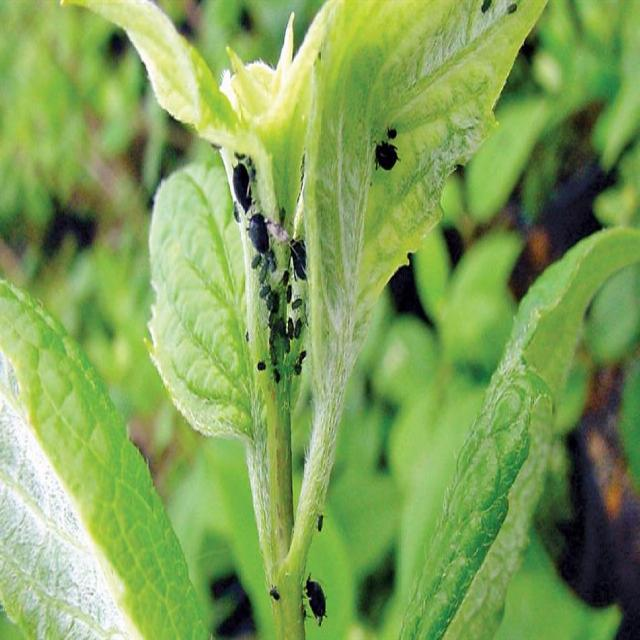Aphid-Grown-: (300, 570, 333, 630), (242, 207, 277, 259)
